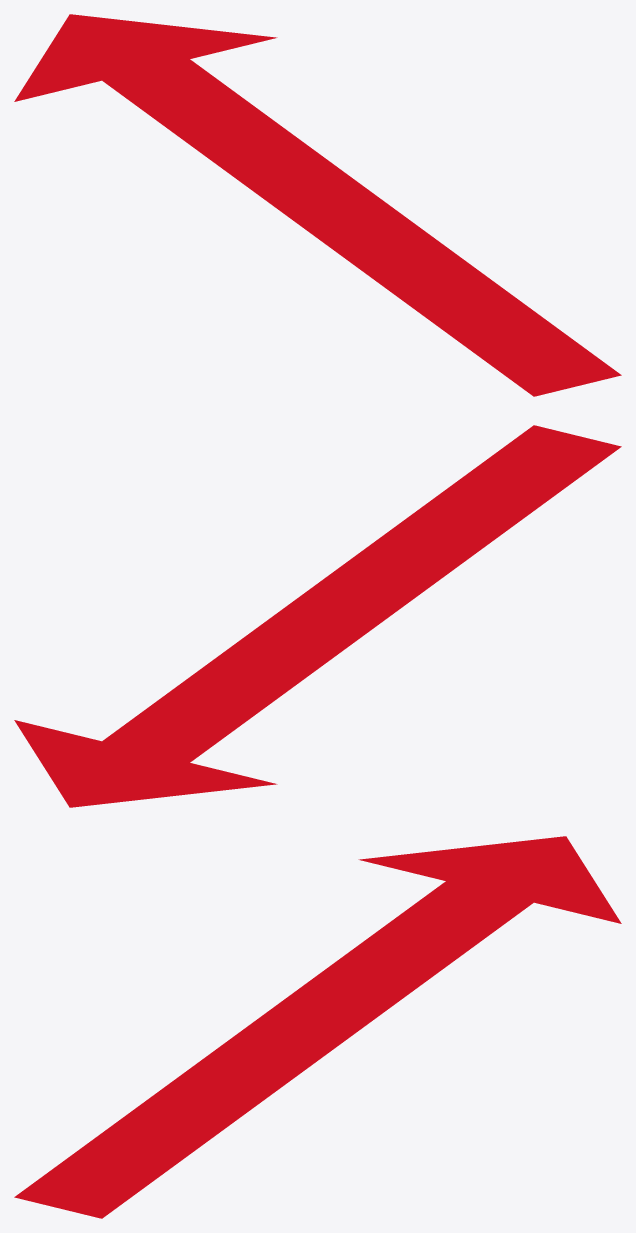
Rendered from Arrow.dae.
3 views of the same model, one above another, from view 1: azimuth 30°, elevation 25°; view 2: azimuth 150°, elevation 25°; view 3: azimuth 330°, elevation 25° (orthographic).
Parts seen in each view (by area): view 1: Arrow; view 2: Arrow; view 3: Arrow.
Part boxes in pixels (bbox=[...]): Arrow: bbox=[14, 14, 621, 396]; Arrow: bbox=[14, 425, 621, 807]; Arrow: bbox=[14, 836, 621, 1218].
Bounding box in the file's own units: 0.3 × 1 × 0.
